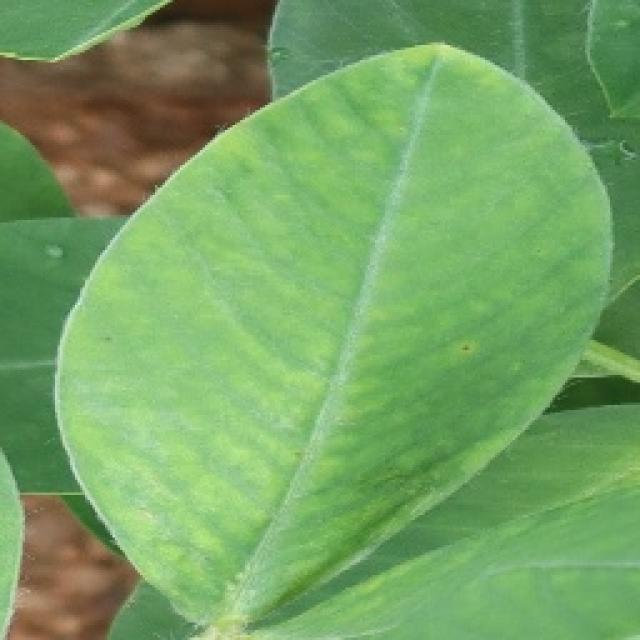Early_leaf_spot: (454, 328, 494, 378)
